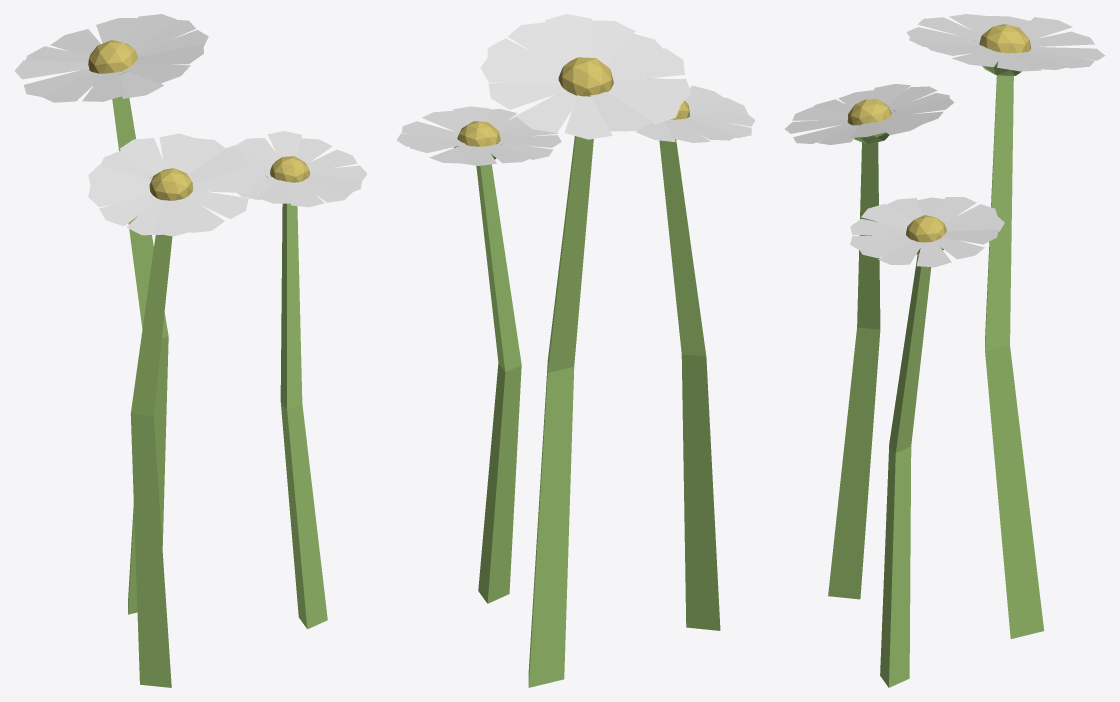
The model's file is flower01.fbx.
The picture shows the model from 3 angles, left to right: view 1: azimuth 30°, elevation 25°; view 2: azimuth 150°, elevation 25°; view 3: azimuth 270°, elevation 25°; orthographic projection. The views are drawn at different scales.
Parts seen in each view (by area): view 1: Flower01; view 2: Flower01; view 3: Flower01.
Boxes of the visible parts, <box> form: Flower01: <box>14,14,366,687</box>; Flower01: <box>396,14,755,687</box>; Flower01: <box>785,14,1105,687</box>.
Size of the model in its own units: 15.22 by 29.12 by 14.35.
